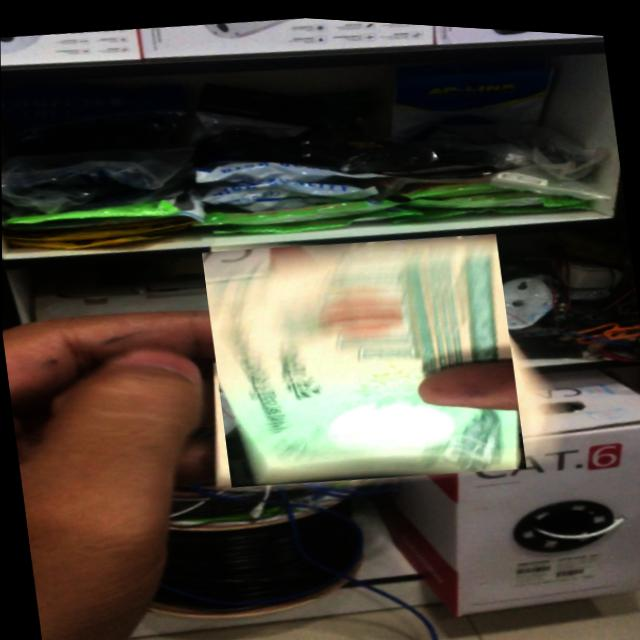Taka: (201, 213, 525, 497)
